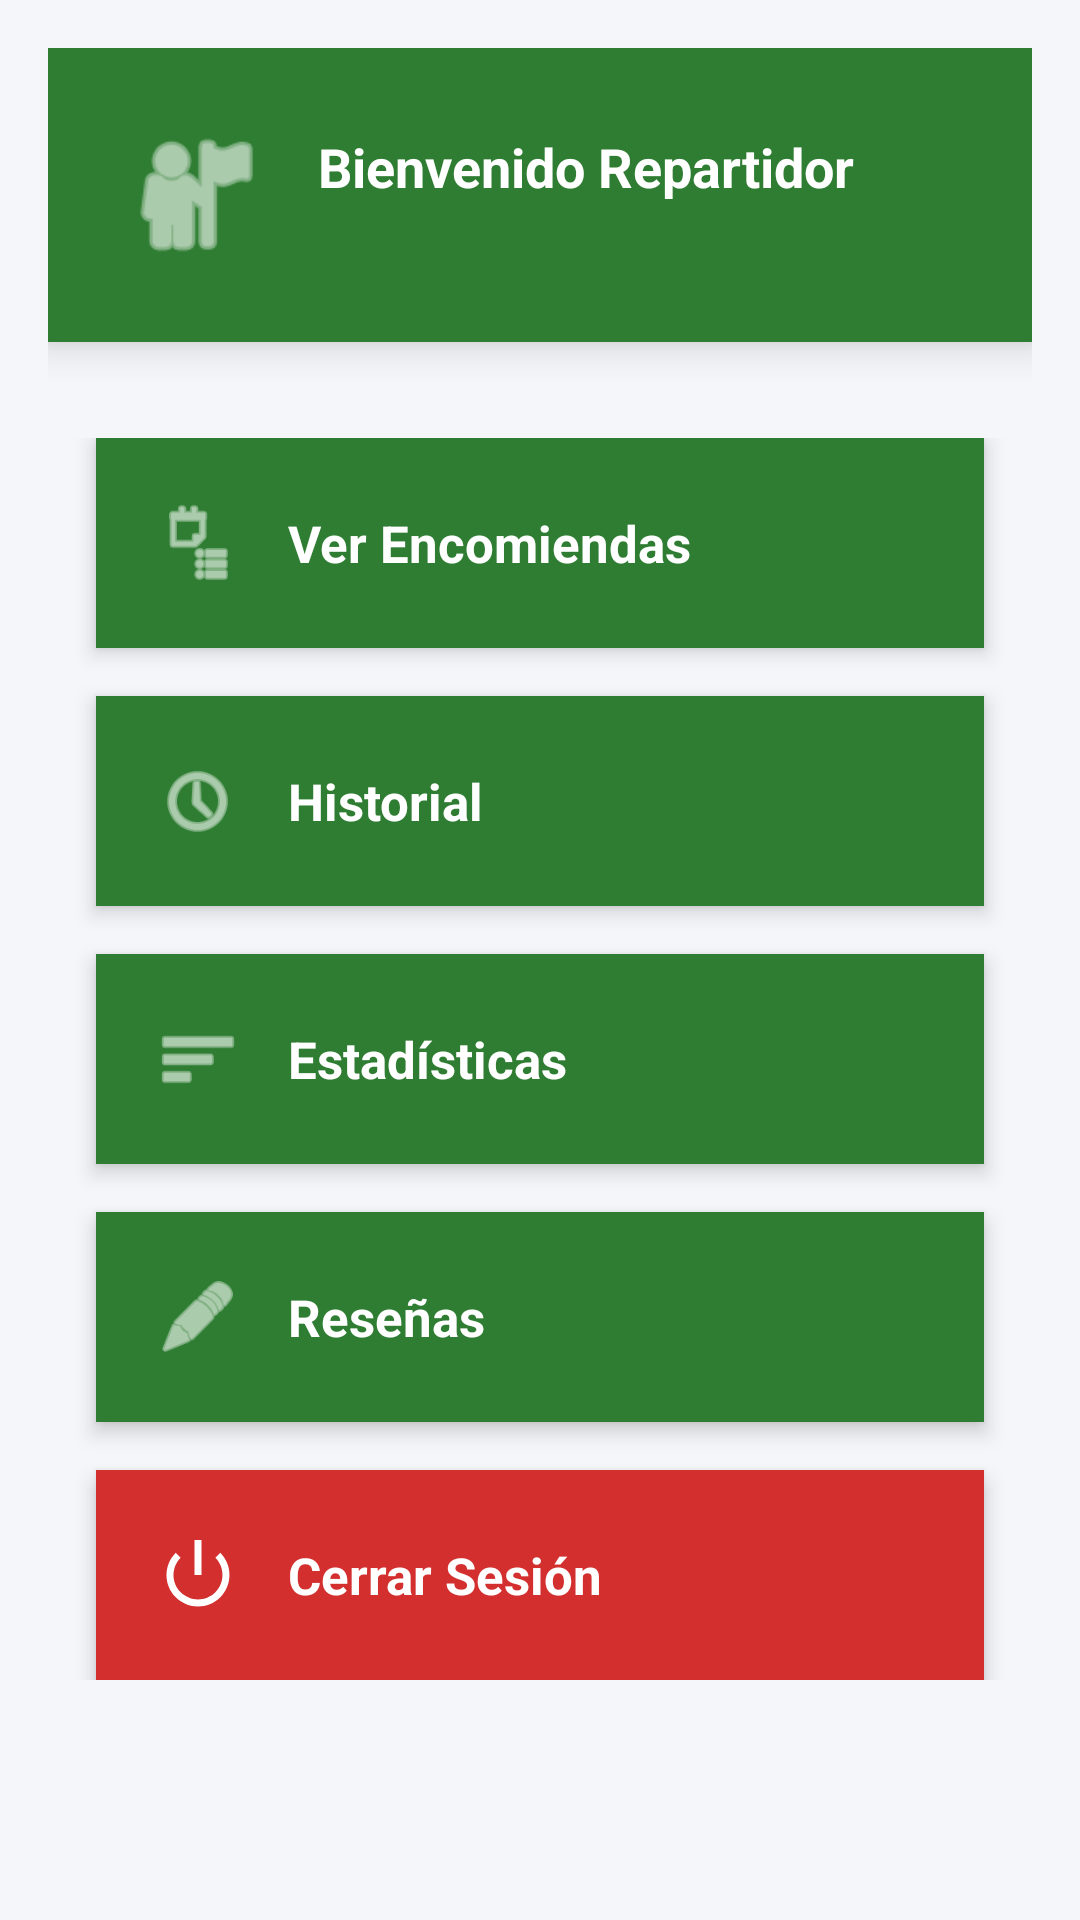

Named icons in this screenshot (1080×1920) and their centers, (x,y):
agenda: (198,542)
edit: (197,1316)
lock power off: (198,1573)
myplaces: (196,195)
recent history: (197,801)
sort by size: (198,1059)
